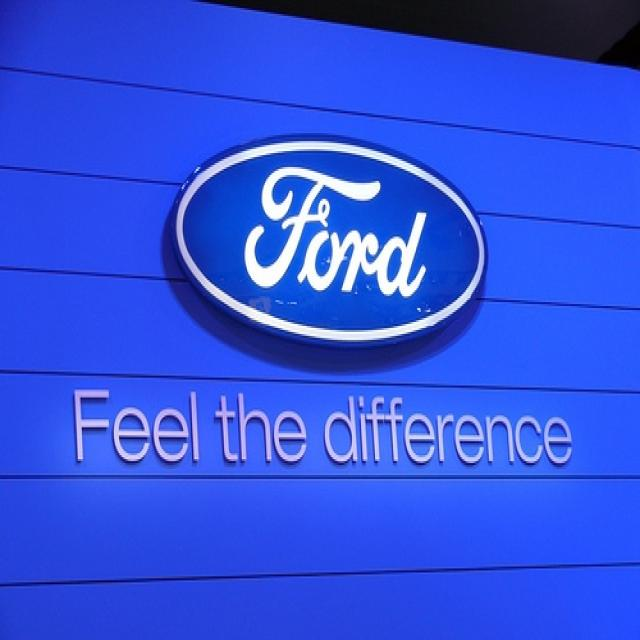ford: (164, 132, 495, 353)
